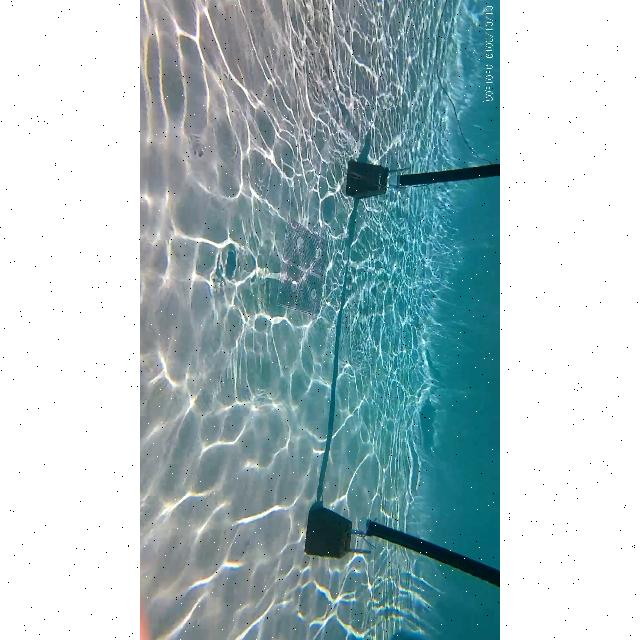prequal gate: (358, 159, 500, 595)
prequal gate leg l: (350, 145, 500, 197)
prequal gate leg r: (328, 496, 500, 590)
